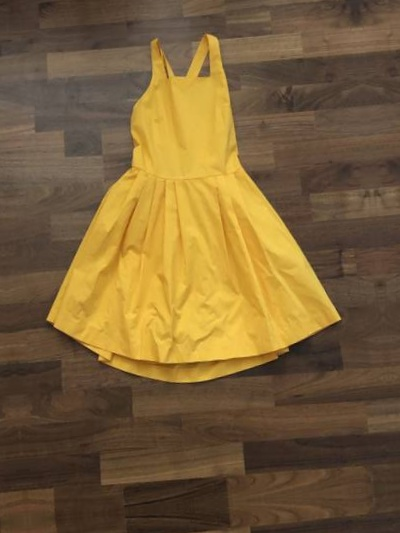Dress: (5, 0, 358, 413), (384, 0, 400, 379)
